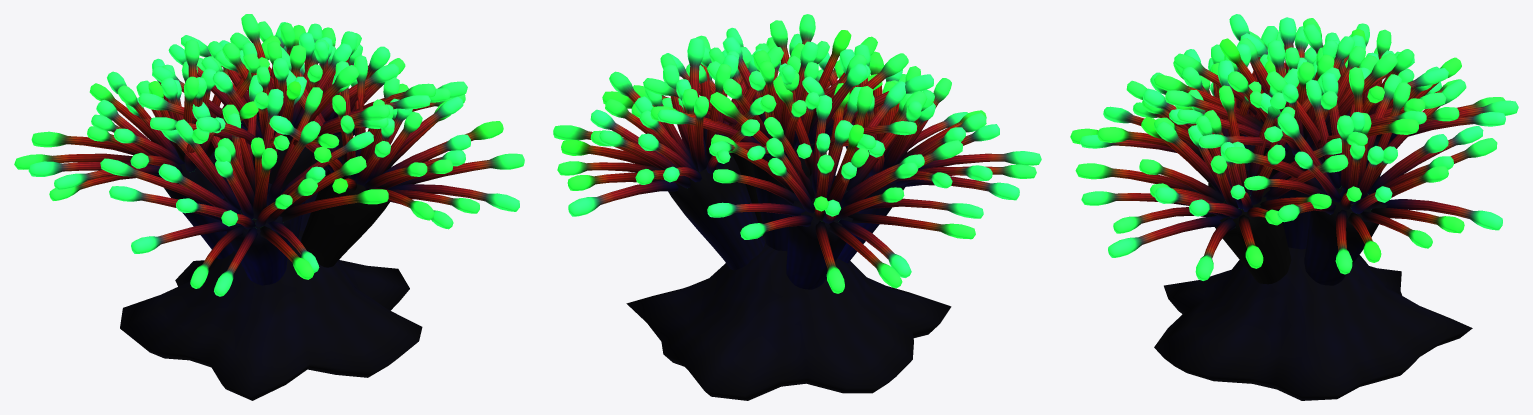
The model's file is coral-euphyllia-torch.glb.
3 renders of one model, left to right at view 1: azimuth 30°, elevation 25°; view 2: azimuth 150°, elevation 25°; view 3: azimuth 270°, elevation 25°, orthographic. The views are drawn at different scales.
Visible parts, largest first — view 1: Euphyllia_Polyp_Crown, Euphyllia_Skeleton; view 2: Euphyllia_Polyp_Crown, Euphyllia_Skeleton; view 3: Euphyllia_Polyp_Crown, Euphyllia_Skeleton.
Boxes of the visible parts, bbox=[...] form: Euphyllia_Polyp_Crown: bbox=[14, 14, 524, 296]; Euphyllia_Skeleton: bbox=[120, 118, 422, 400]; Euphyllia_Polyp_Crown: bbox=[553, 14, 1041, 293]; Euphyllia_Skeleton: bbox=[626, 130, 951, 400]; Euphyllia_Polyp_Crown: bbox=[1070, 14, 1518, 280]; Euphyllia_Skeleton: bbox=[1154, 136, 1472, 400].
Size of the model in its own units: 0.2669 by 0.1767 by 0.2408.
2 materials, 2 textured.
